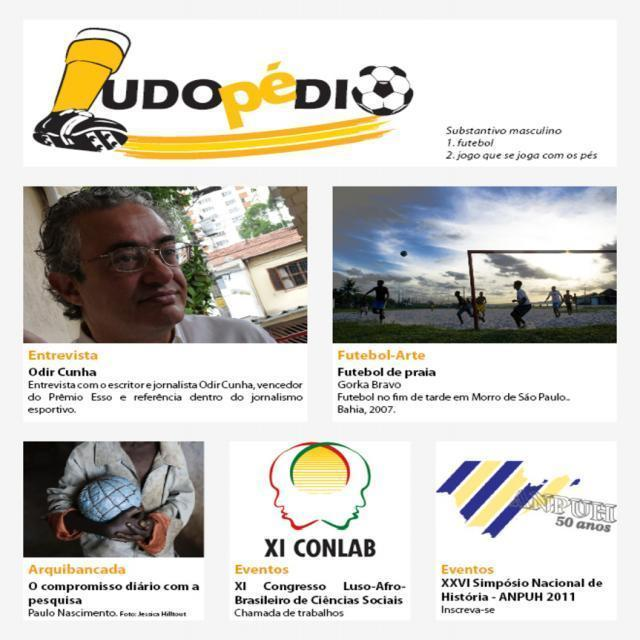ball: (346, 65, 413, 117)
